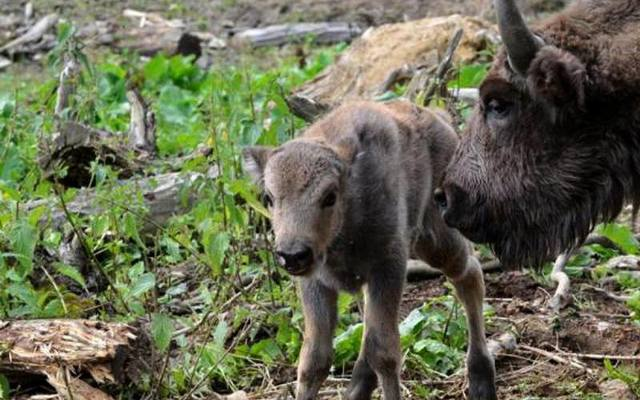zubr: (219, 62, 516, 400), (423, 11, 640, 273)
